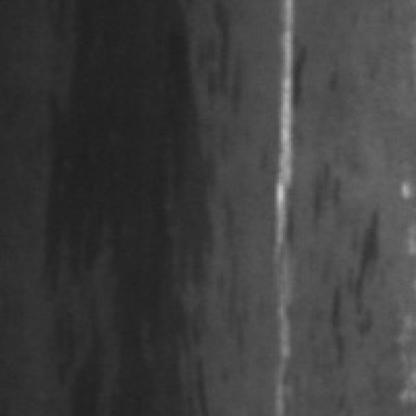inclusion: (54, 8, 218, 416), (324, 208, 387, 368)
scratches: (270, 6, 306, 387)
